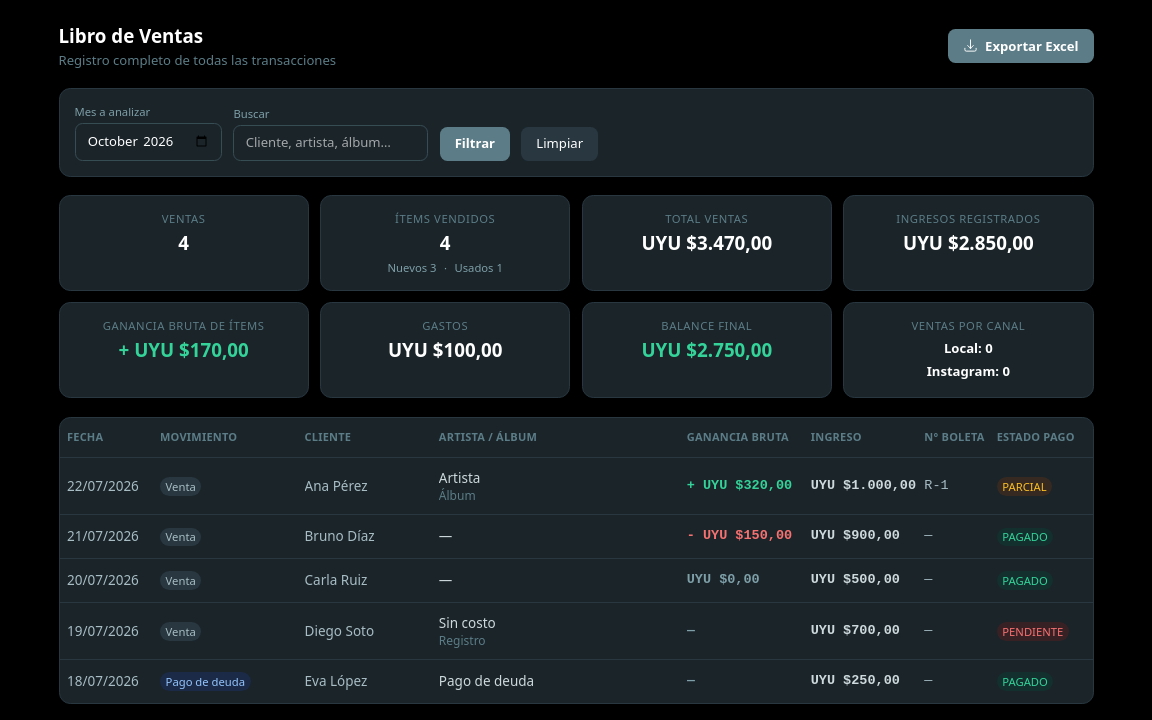
Test case: LibroVentas profit display › replaces the payment-method column and renders profit statuses without changing row clicks
Expected: the column heading "Ganancia bruta" is shown, [679, 418, 803, 457]
Expected: the row that starts with "Pago de deuda" shows "—", [687, 673, 695, 688]
Click the 2nd row at (103, 486), box [60, 457, 1092, 515]
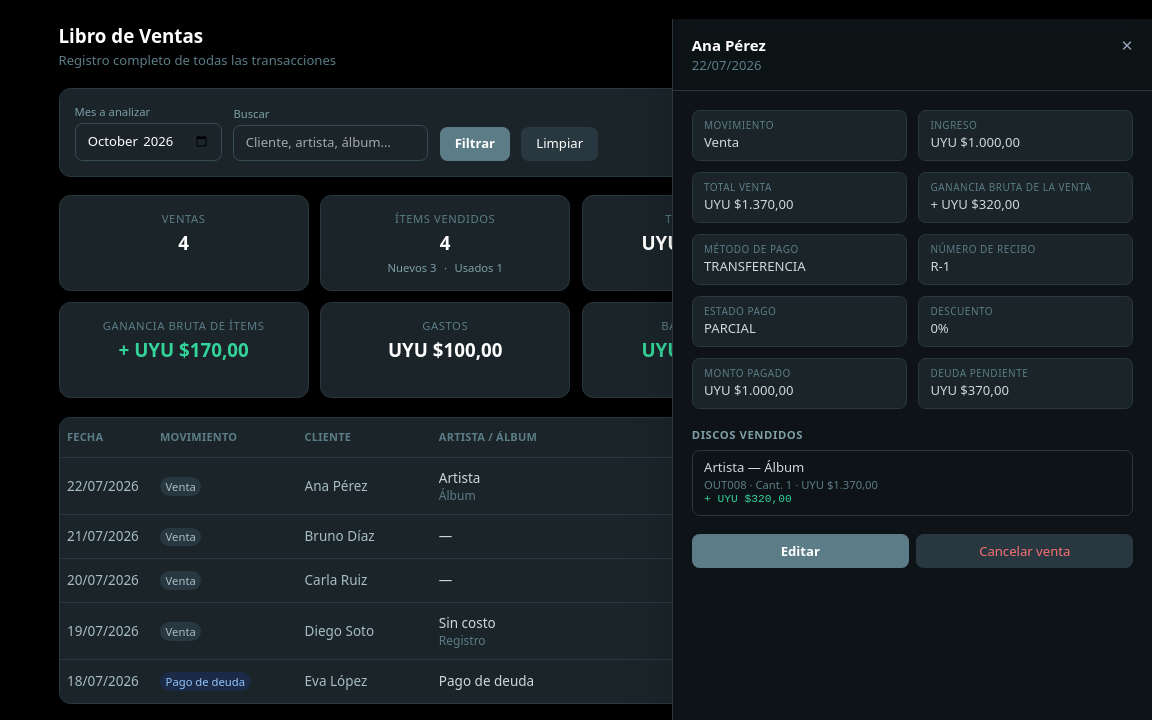
Result: the text "Discos vendidos" is shown at [692, 427, 803, 442]
